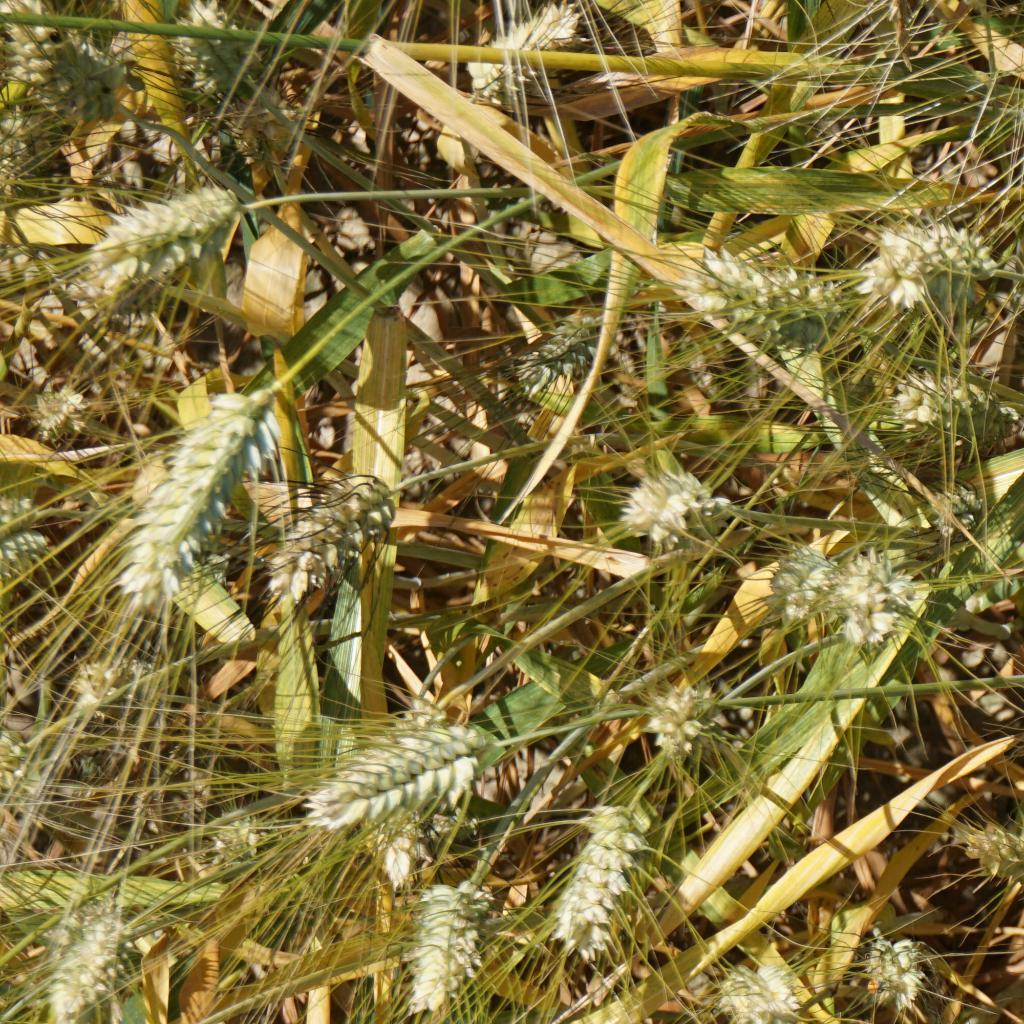0-0: (107, 388, 252, 602), (675, 241, 853, 355), (269, 470, 408, 591), (68, 180, 252, 268), (395, 870, 500, 1019), (316, 726, 483, 813), (38, 887, 144, 1024), (558, 806, 644, 973), (503, 302, 633, 411), (864, 218, 996, 312), (1, 3, 91, 140), (466, 10, 587, 110), (179, 0, 275, 114), (605, 461, 724, 551), (897, 364, 1011, 454), (370, 707, 425, 876), (231, 68, 306, 176), (50, 251, 179, 312), (771, 532, 838, 638), (834, 552, 903, 654), (63, 28, 131, 121), (638, 685, 719, 760), (713, 962, 809, 1024), (954, 814, 1024, 898), (864, 929, 933, 1014), (915, 474, 985, 543), (75, 654, 169, 701), (24, 376, 87, 444), (204, 817, 263, 875), (0, 540, 46, 584)
